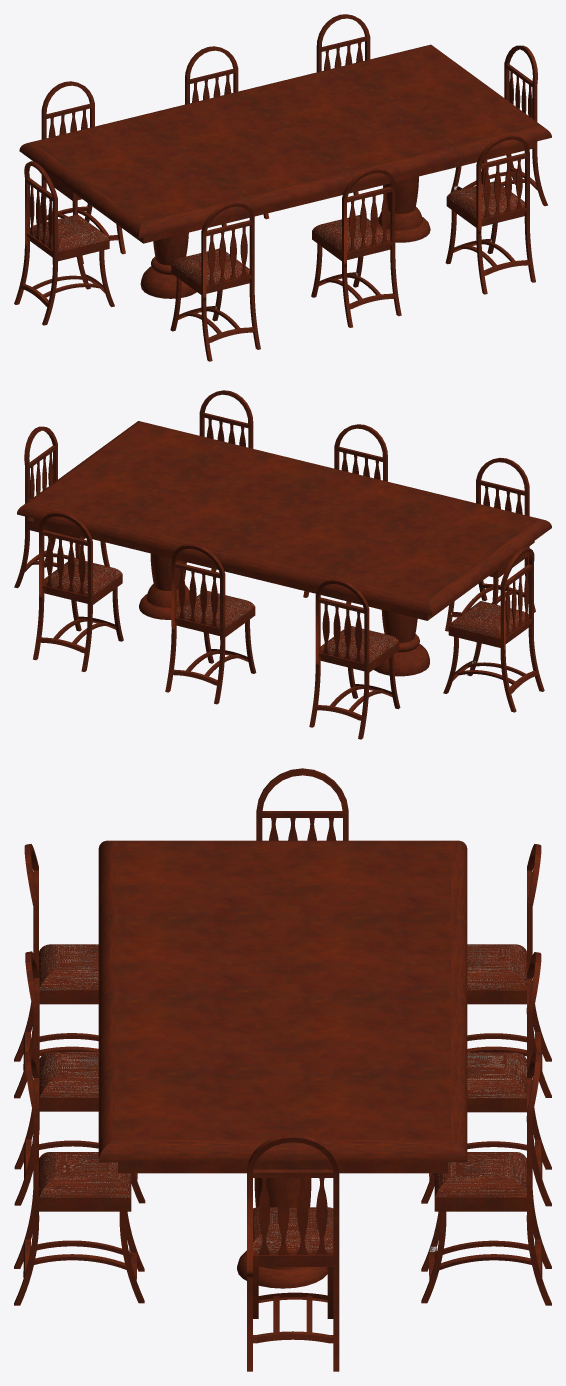
The model's file is dining-table.dae.
3 renders of one model, top to bottom at view 1: azimuth 30°, elevation 25°; view 2: azimuth 150°, elevation 25°; view 3: azimuth 270°, elevation 25°, orthographic. The views are drawn at different scales.
Visible parts, largest first — view 1: Table___Chairs, Chair (×8); view 2: Table___Chairs, Chair (×8); view 3: Table___Chairs, Chair (×8).
Boxes of the visible parts, x1=… form: Table___Chairs: x1=19, y1=44, x2=551, y2=298; Chair (×8): x1=14, y1=14, x2=547, y2=361; Table___Chairs: x1=17, y1=421, x2=551, y2=676; Chair (×8): x1=14, y1=390, x2=544, y2=739; Table___Chairs: x1=98, y1=840, x2=467, y2=1288; Chair (×8): x1=14, y1=768, x2=551, y2=1371.
Bounding box in the file's own units: 116 × 70.05 × 33.32.
Materials: 5 (4 with a texture image).
